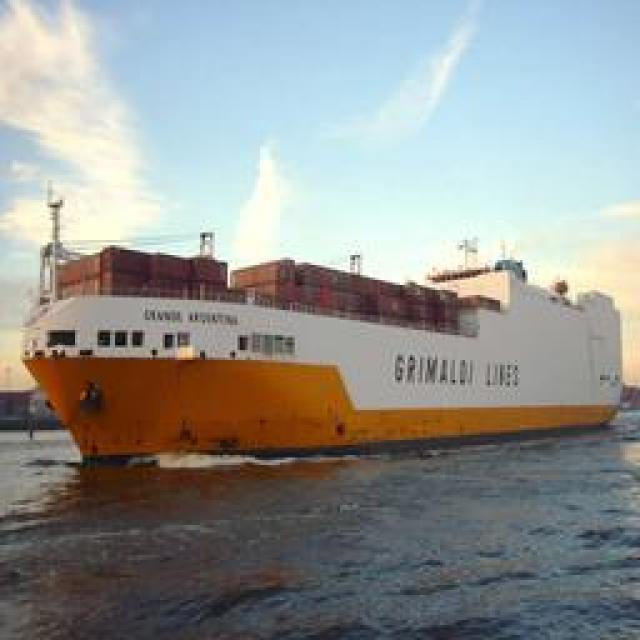CIV_Ship: (15, 214, 618, 466)
